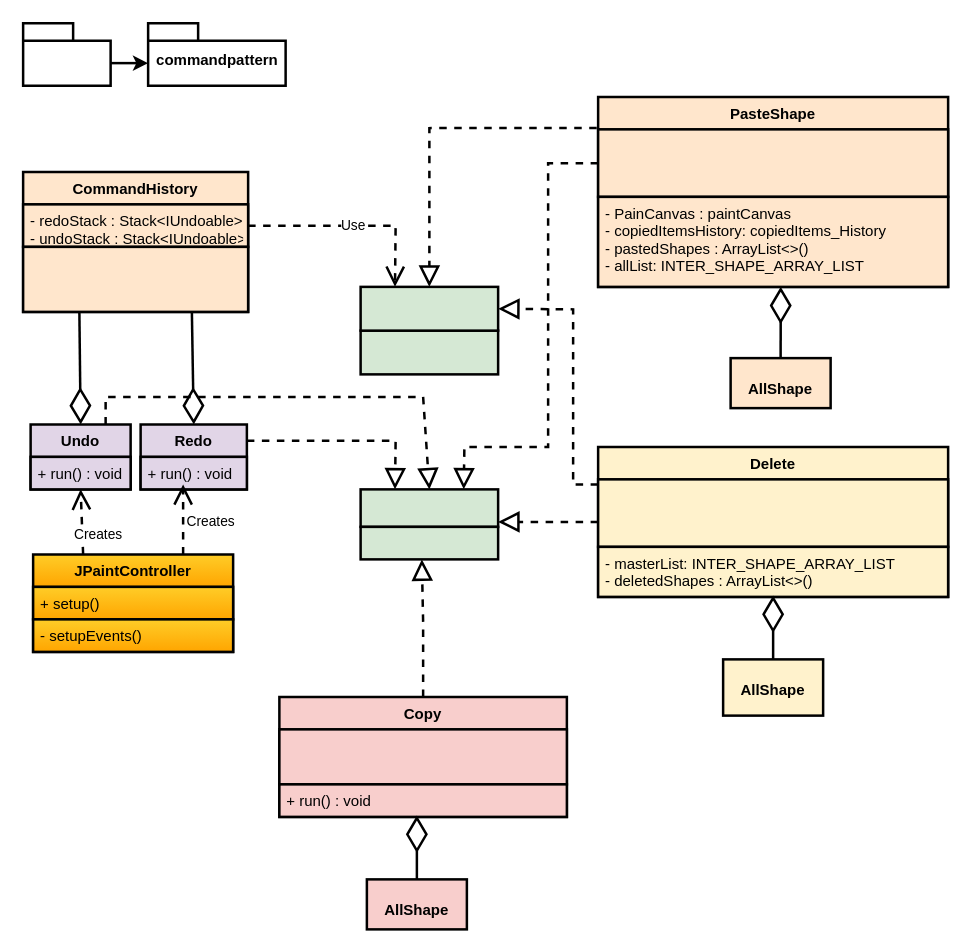
Some shapes in this 970 by 951 pixel diagram are drawn without their labels. Each missing label, with the centre of its shape:
"+ redo() : boolean + undo() : boolean + add() : void" goes at pixel 135 278.
"+ run() : void + redo() : void + undo() : void" goes at pixel 772 163.
"+ run() : void + undo() : void + redo() : void" goes at pixel 772 513.
"+ undo() : void + redo() : void" goes at pixel 429 352.
"+run() : void" goes at pixel 429 542.
"- copiedItemsHistory: copiedItems_History - allList: INTER_SHAPE_ARRAY_LIST" goes at pixel 423 756.
"controller" goes at pixel 66 53.
"«interface» IEventCallBack" goes at pixel 429 508.
"«interface» IUndoable" goes at pixel 429 308.
